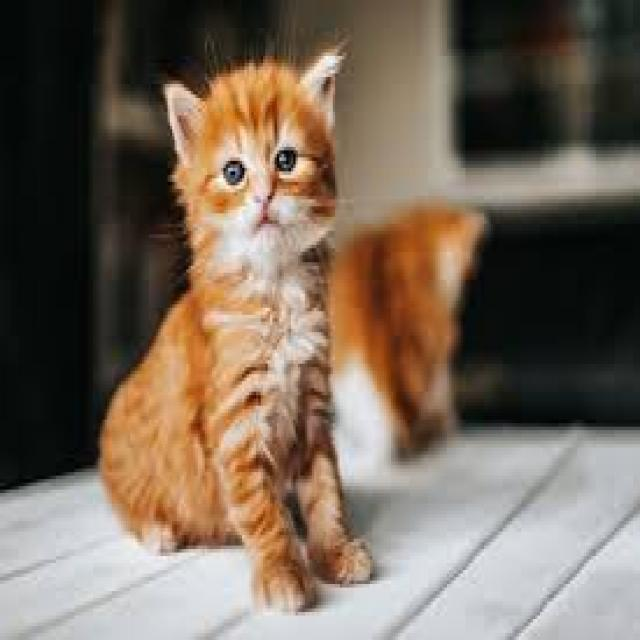Cat: (97, 32, 378, 617)
